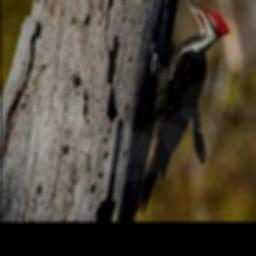Woodpecker: (136, 0, 231, 213)
